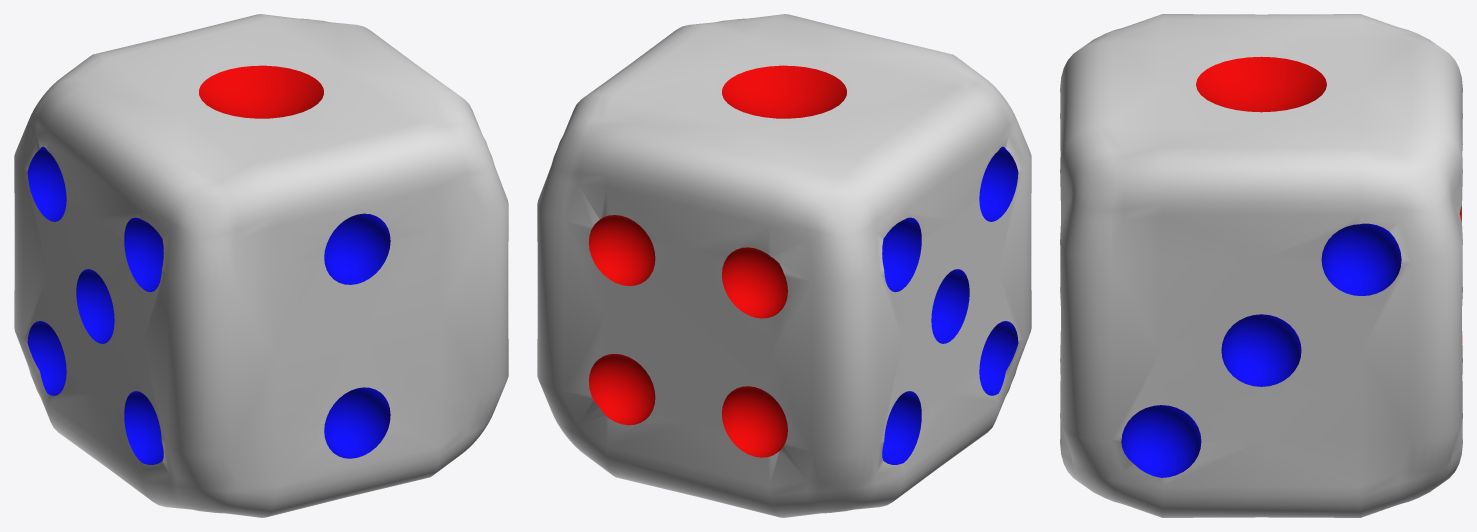
Rendered from dice-6.fbx.
3 renders of one model, left to right at view 1: azimuth 30°, elevation 25°; view 2: azimuth 150°, elevation 25°; view 3: azimuth 270°, elevation 25°, orthographic. The views are drawn at different scales.
Parts seen in each view (by area): view 1: Box001; view 2: Box001; view 3: Box001.
Boxes of the visible parts, x1,y1,x2,y2 form: Box001: [14, 14, 508, 517]; Box001: [537, 14, 1031, 517]; Box001: [1060, 14, 1462, 517].
Bounding box in the file's own units: 40.23 × 40.23 × 40.23.
